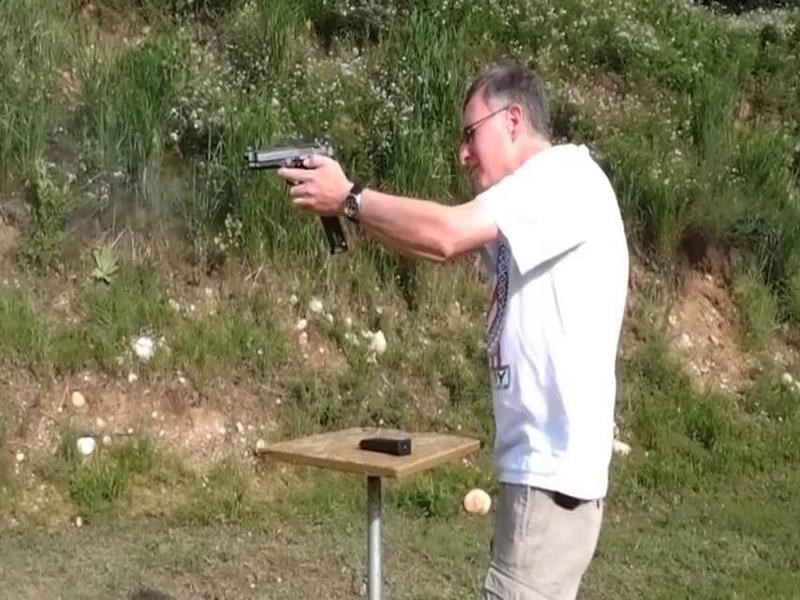Pistola: (233, 139, 365, 209)
